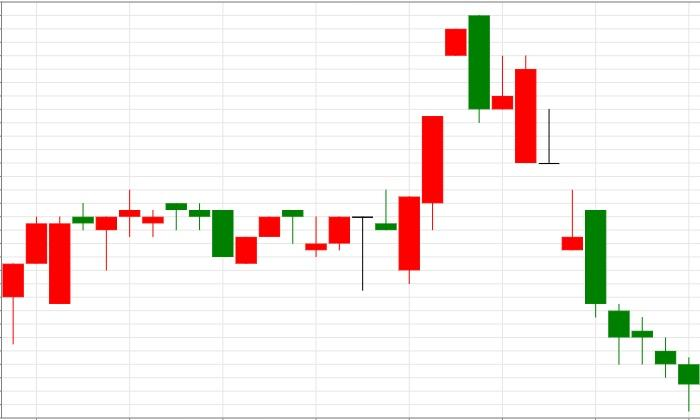bearish_engulfing_fall: (305, 14, 491, 291)
